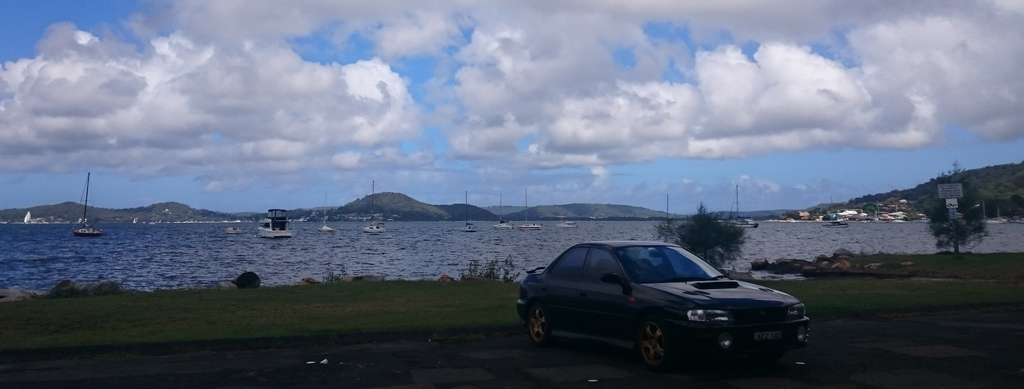Car: (519, 233, 804, 365)
